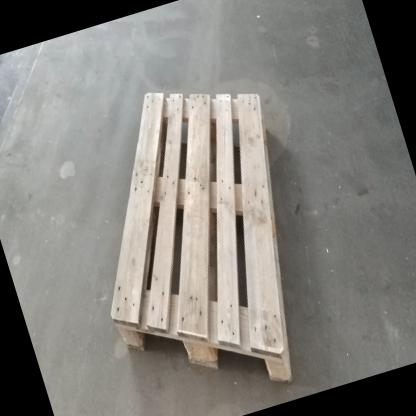BoxFace: (107, 87, 297, 392)
